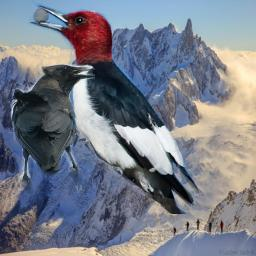Crow: (11, 60, 95, 194)
Woodpecker: (28, 0, 204, 214)
